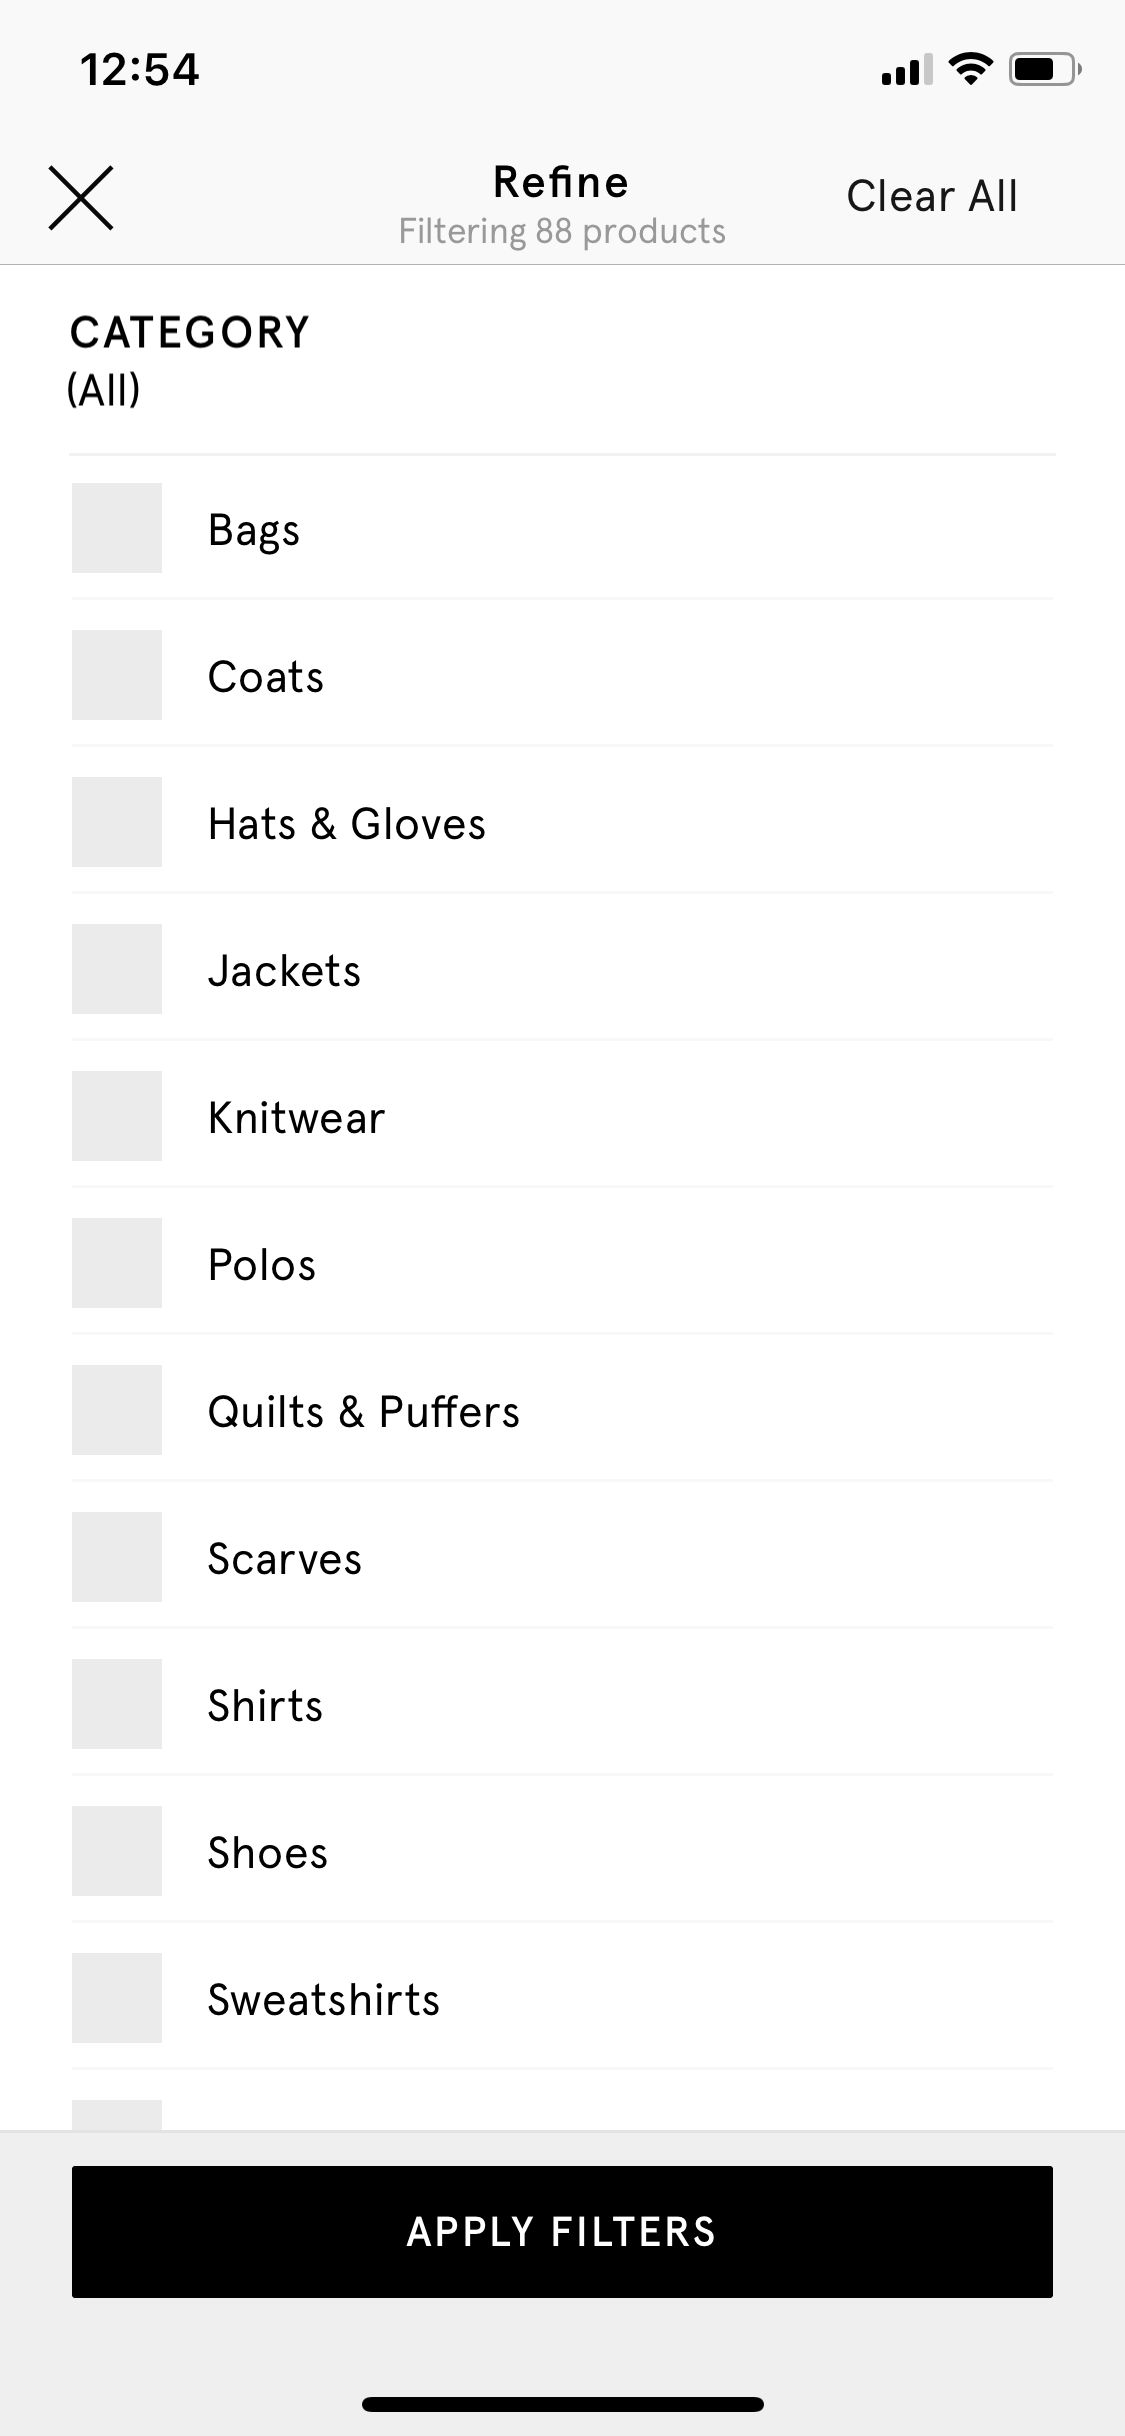Buttons: (65, 2153, 1069, 2323), (813, 120, 1047, 263), (19, 120, 145, 259)
